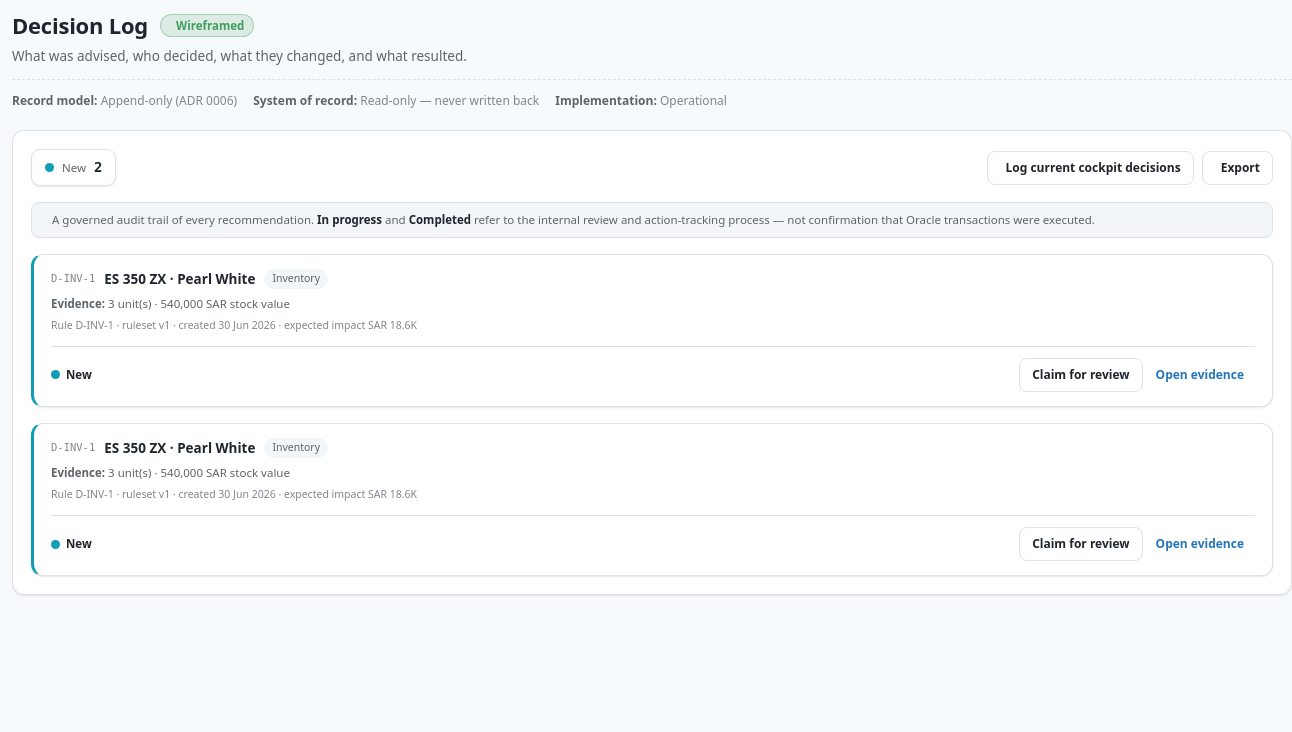
Test: Decision Log — claiming › reports a bulk claim honestly rather than with a blanket success
This screenshot has width=1292, height=732.
What coordinates should you click on to do the following:
click the button "Log current cockpit decisions"
I would click on:
 (1090, 168)
Its box is [986,151,1194,185].
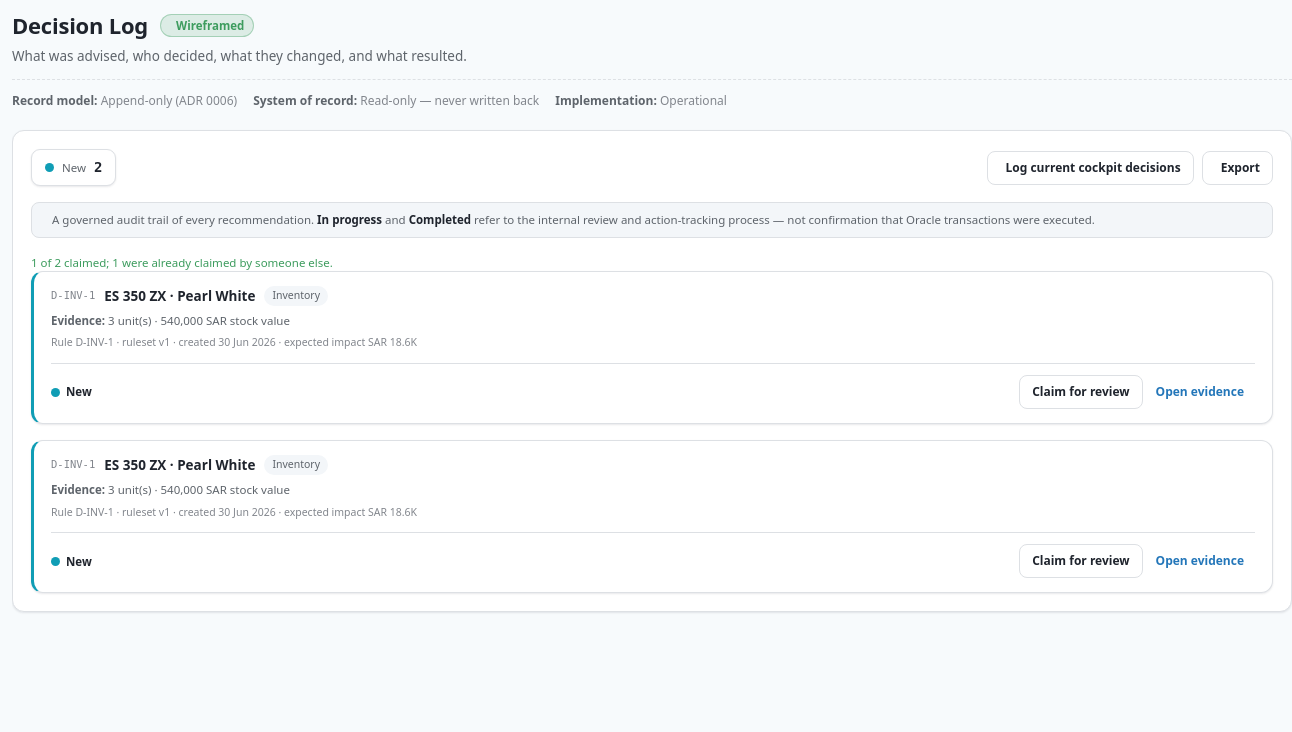
Result: the text "1 of 2 claimed; 1 were already claimed by someone else." is shown at [31,254,333,270]
